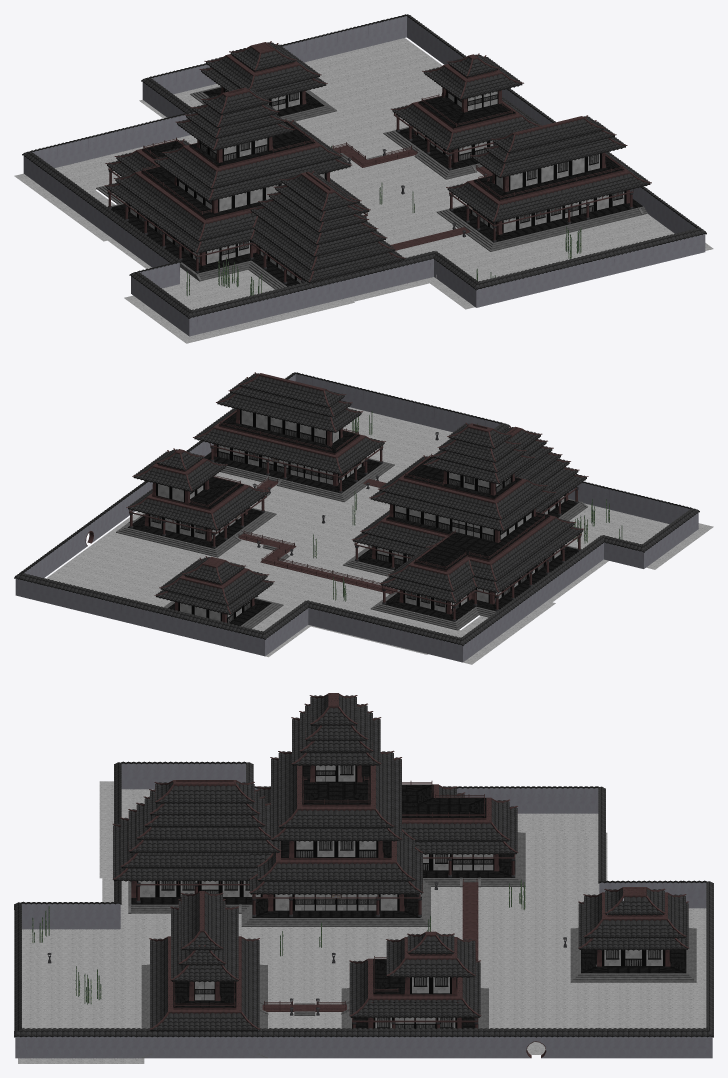
File: chinese-mansion-optimized.glb
3 renders of one model, top to bottom at view 1: azimuth 30°, elevation 25°; view 2: azimuth 150°, elevation 25°; view 3: azimuth 270°, elevation 25°, orthographic. The views are drawn at different scales.
Parts seen in each view (by area): view 1: Fence_LeftPivot59_MAT_RoofTrim_0, Fence_LeftPivot59_MAT_Ground_0, Fence_LeftPivot59_MAT_TrimSheetWalls_0, Fence_LeftPivot59_MAT_MIsc_0, Fence_LeftPivot59_MAT_Decor_0; view 2: Fence_LeftPivot59_MAT_RoofTrim_0, Fence_LeftPivot59_MAT_Ground_0, Fence_LeftPivot59_MAT_TrimSheetWalls_0, Fence_LeftPivot59_MAT_MIsc_0, Fence_LeftPivot59_MAT_Decor_0; view 3: Fence_LeftPivot59_MAT_RoofTrim_0, Fence_LeftPivot59_MAT_Ground_0, Fence_LeftPivot59_MAT_TrimSheetWalls_0, Fence_LeftPivot59_MAT_MIsc_0, Fence_LeftPivot59_MAT_Decor_0.
Boxes of the visible parts, left/top/right/bottom form: Fence_LeftPivot59_MAT_RoofTrim_0: left=22, top=14, right=706, bottom=336; Fence_LeftPivot59_MAT_Ground_0: left=14, top=38, right=713, bottom=343; Fence_LeftPivot59_MAT_TrimSheetWalls_0: left=110, top=87, right=642, bottom=286; Fence_LeftPivot59_MAT_MIsc_0: left=107, top=43, right=633, bottom=284; Fence_LeftPivot59_MAT_Decor_0: left=186, top=126, right=581, bottom=296; Fence_LeftPivot59_MAT_RoofTrim_0: left=14, top=372, right=699, bottom=662; Fence_LeftPivot59_MAT_Ground_0: left=46, top=407, right=713, bottom=664; Fence_LeftPivot59_MAT_TrimSheetWalls_0: left=128, top=409, right=578, bottom=625; Fence_LeftPivot59_MAT_MIsc_0: left=129, top=410, right=581, bottom=621; Fence_LeftPivot59_MAT_Decor_0: left=235, top=411, right=622, bottom=601; Fence_LeftPivot59_MAT_RoofTrim_0: left=14, top=693, right=713, bottom=1058; Fence_LeftPivot59_MAT_Ground_0: left=18, top=781, right=706, bottom=1063; Fence_LeftPivot59_MAT_TrimSheetWalls_0: left=131, top=765, right=686, bottom=1028; Fence_LeftPivot59_MAT_MIsc_0: left=47, top=776, right=644, bottom=1028; Fence_LeftPivot59_MAT_Decor_0: left=32, top=879, right=525, bottom=1004.
Bounding box in the file's own units: 1.27 × 0.3576 × 1.33.
5 materials, 5 textured.
